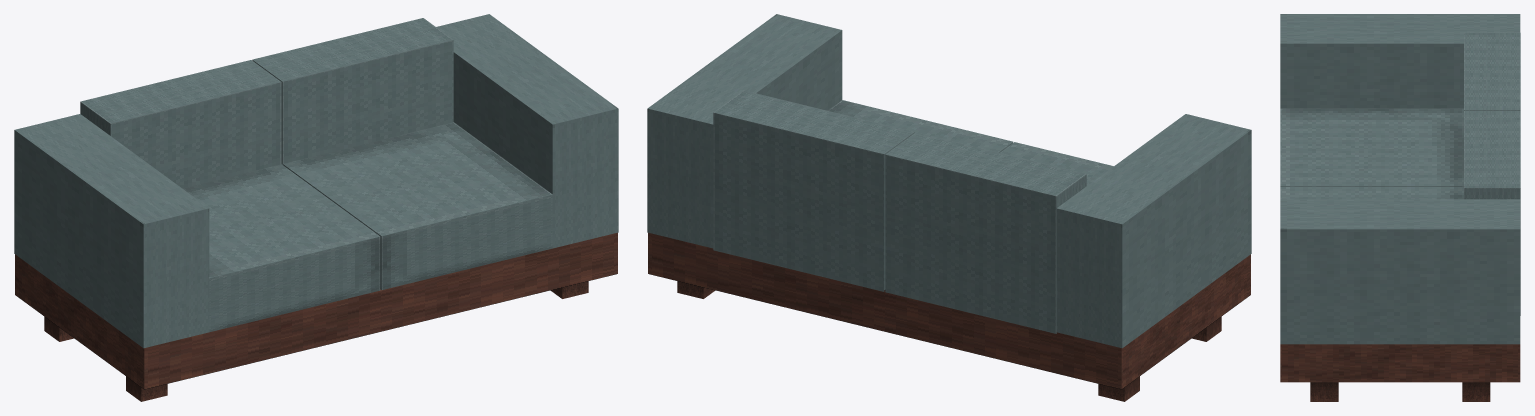
The model's file is couch.glb.
The picture shows the model from 3 angles, left to right: view 1: azimuth 30°, elevation 25°; view 2: azimuth 150°, elevation 25°; view 3: azimuth 270°, elevation 25°; orthographic projection. The views are drawn at different scales.
Visible parts, largest first — view 1: bocne; view 2: bocne; view 3: bocne.
Part boxes in pixels (x1,y1,x2,y2): bocne: (14,14,618,401); bocne: (647,14,1251,401); bocne: (1280,14,1520,401).
Size of the model in its own units: 1.8 by 0.7436 by 0.8508.
Materials: 1 (1 with a texture image).
